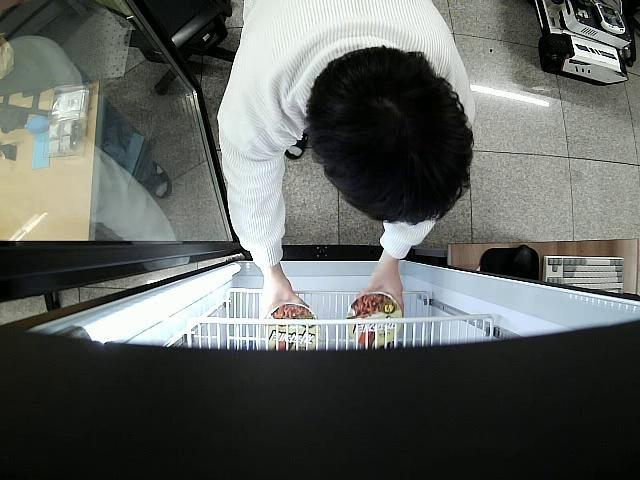03_chapagetti_L: (346, 290, 403, 349), (260, 302, 320, 356)
